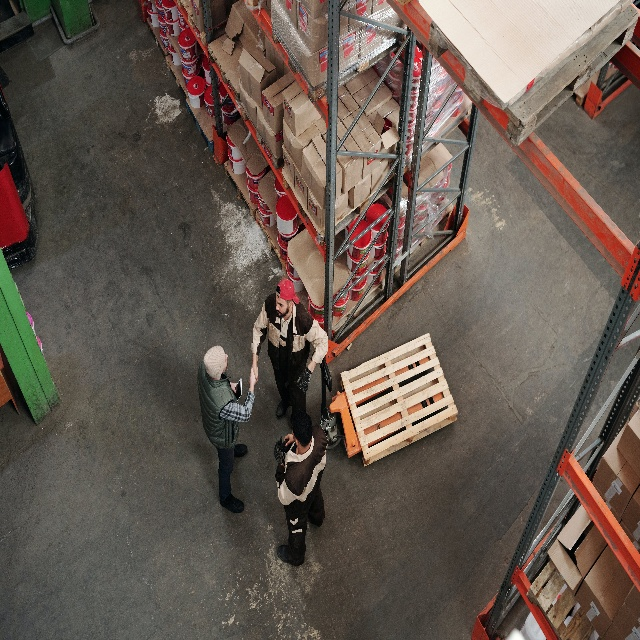Guantes: (296, 365, 312, 389), (278, 436, 291, 459), (273, 441, 284, 465), (294, 378, 309, 394)
Sin_guantes: (249, 363, 258, 387), (250, 367, 258, 387), (283, 433, 294, 447), (230, 380, 238, 393)
